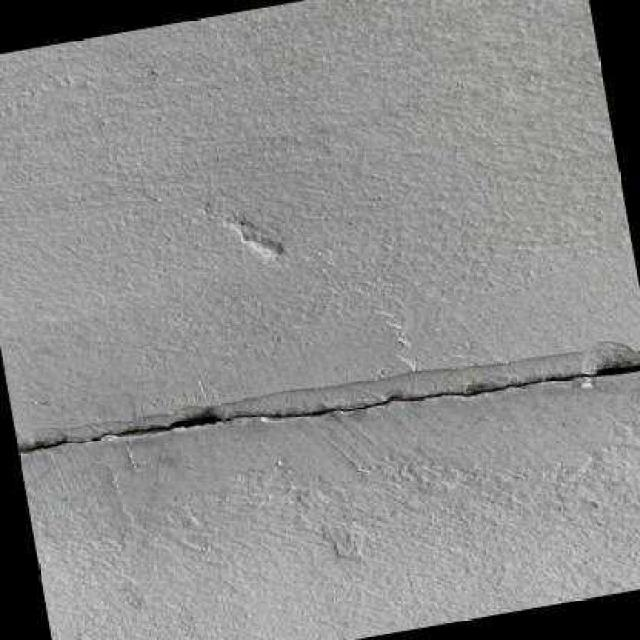D00: (17, 362, 640, 453)
